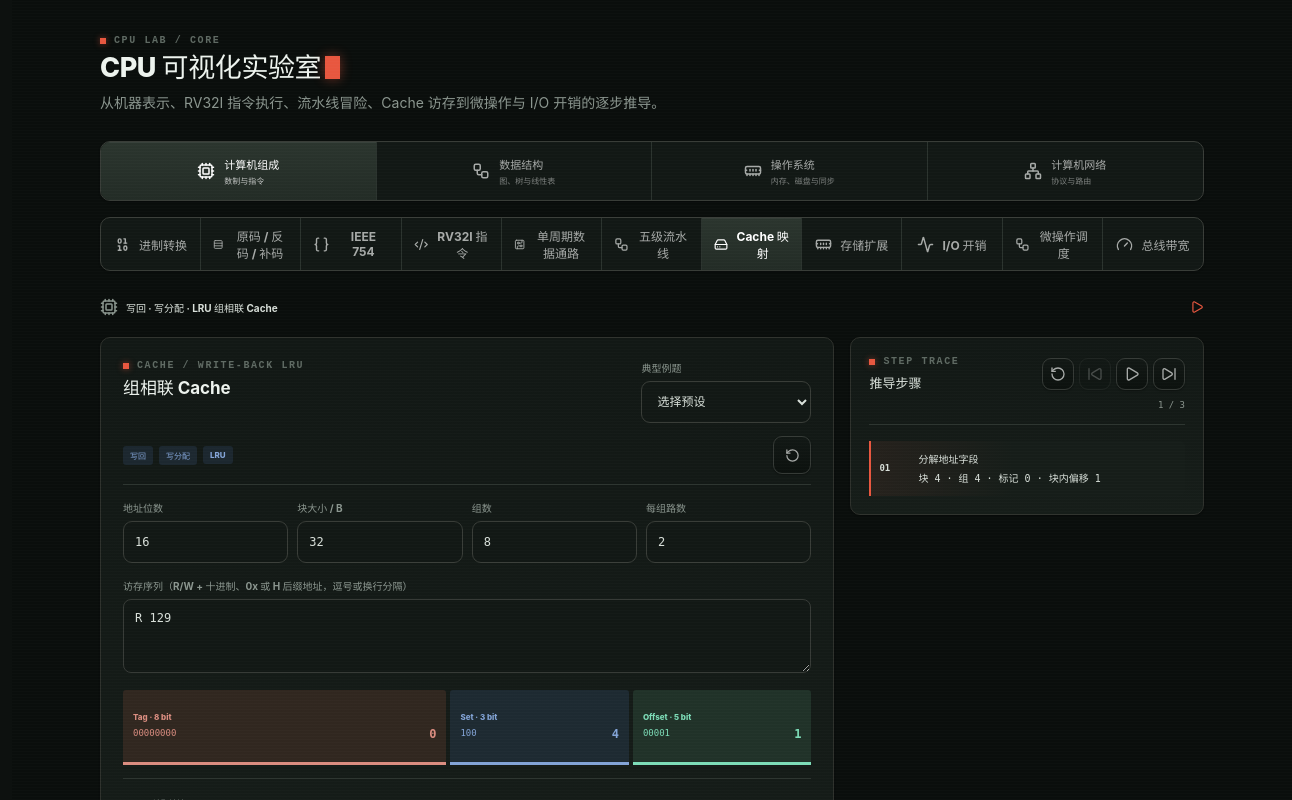
CpuLabPage I/O overhead routing › writes the canonical module URL when its tab is selected
Click the button "I/O 开销".
click(953, 244)  # box [902, 218, 1003, 270]
(page scrolled)
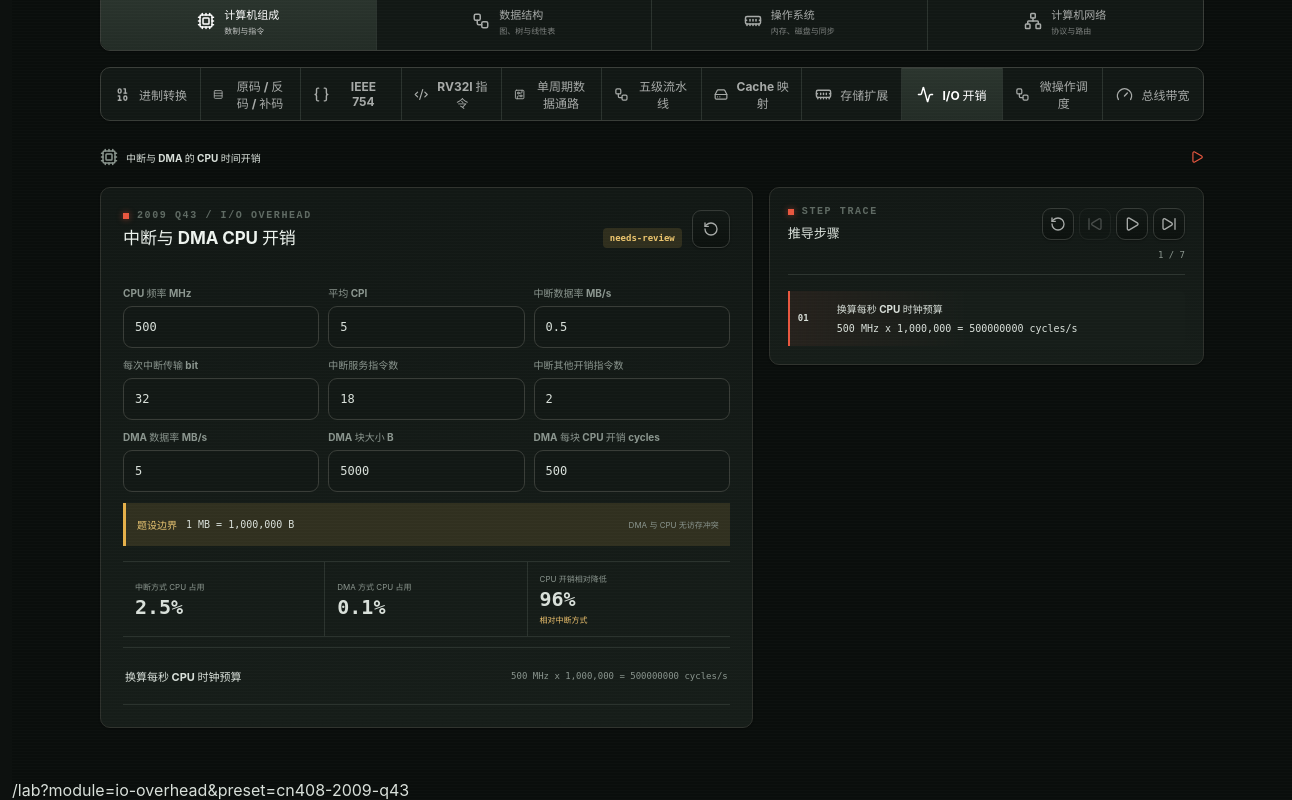
Now the text named "current URL" shows "/lab?module=io-overhead", box [12, 780, 409, 799]
